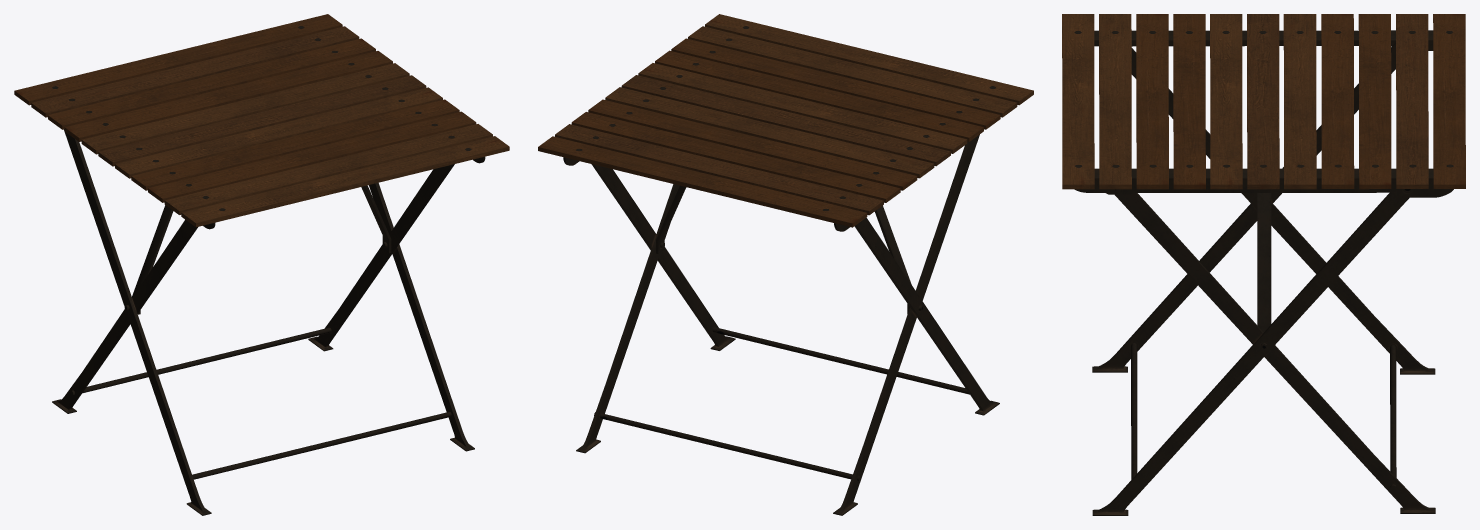
Rendered from CafeTable_adapted.glb.
3 views of the same model, side by side, from view 1: azimuth 30°, elevation 25°; view 2: azimuth 150°, elevation 25°; view 3: azimuth 270°, elevation 25° (orthographic). The views are drawn at different scales.
Bounding box in the file's own units: 0.9009 × 0.8434 × 0.901.
1 material, 1 textured.
